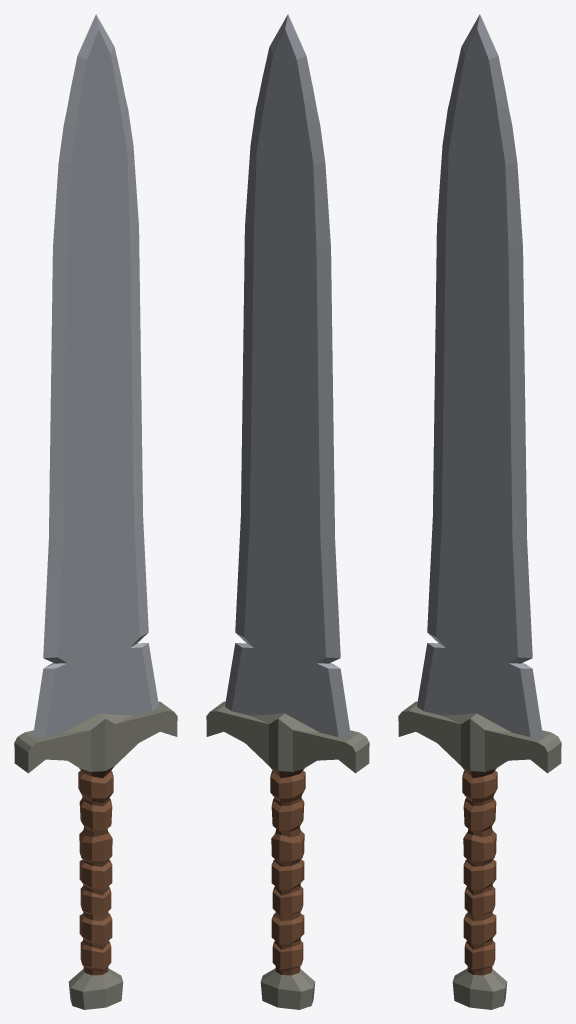
File: armory-berserker-3.glb
3 renders of one model, left to right at view 1: azimuth 30°, elevation 25°; view 2: azimuth 150°, elevation 25°; view 3: azimuth 330°, elevation 25°, orthographic.
Visible parts, largest first — view 1: Sword_big_Cylinder.009; view 2: Sword_big_Cylinder.009; view 3: Sword_big_Cylinder.009.
Boxes of the visible parts, <box> form: Sword_big_Cylinder.009: <box>14,14,177,1009</box>; Sword_big_Cylinder.009: <box>206,14,369,1009</box>; Sword_big_Cylinder.009: <box>398,14,561,1009</box>.
Bounding box in the file's own units: 1.02 × 6.44 × 0.2386.
